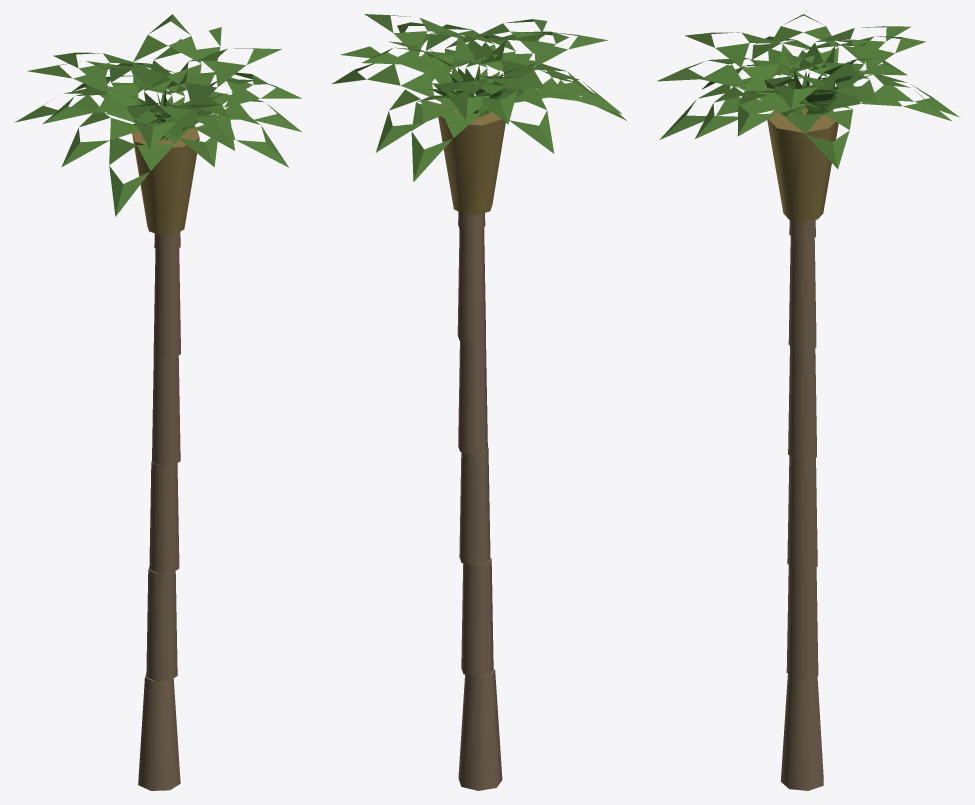
The model's file is palm_washingtonia.glb.
3 views of the same model, side by side, from view 1: azimuth 30°, elevation 25°; view 2: azimuth 150°, elevation 25°; view 3: azimuth 270°, elevation 25° (orthographic). The views are drawn at different scales.
Visible parts, largest first — view 1: palm; view 2: palm; view 3: palm.
Part boxes in pixels (x1,y1,x2,y2): palm: (14,14,301,790); palm: (331,14,626,790); palm: (657,14,959,790).
Bounding box in the file's own units: 4.4 × 12.37 × 4.58.
